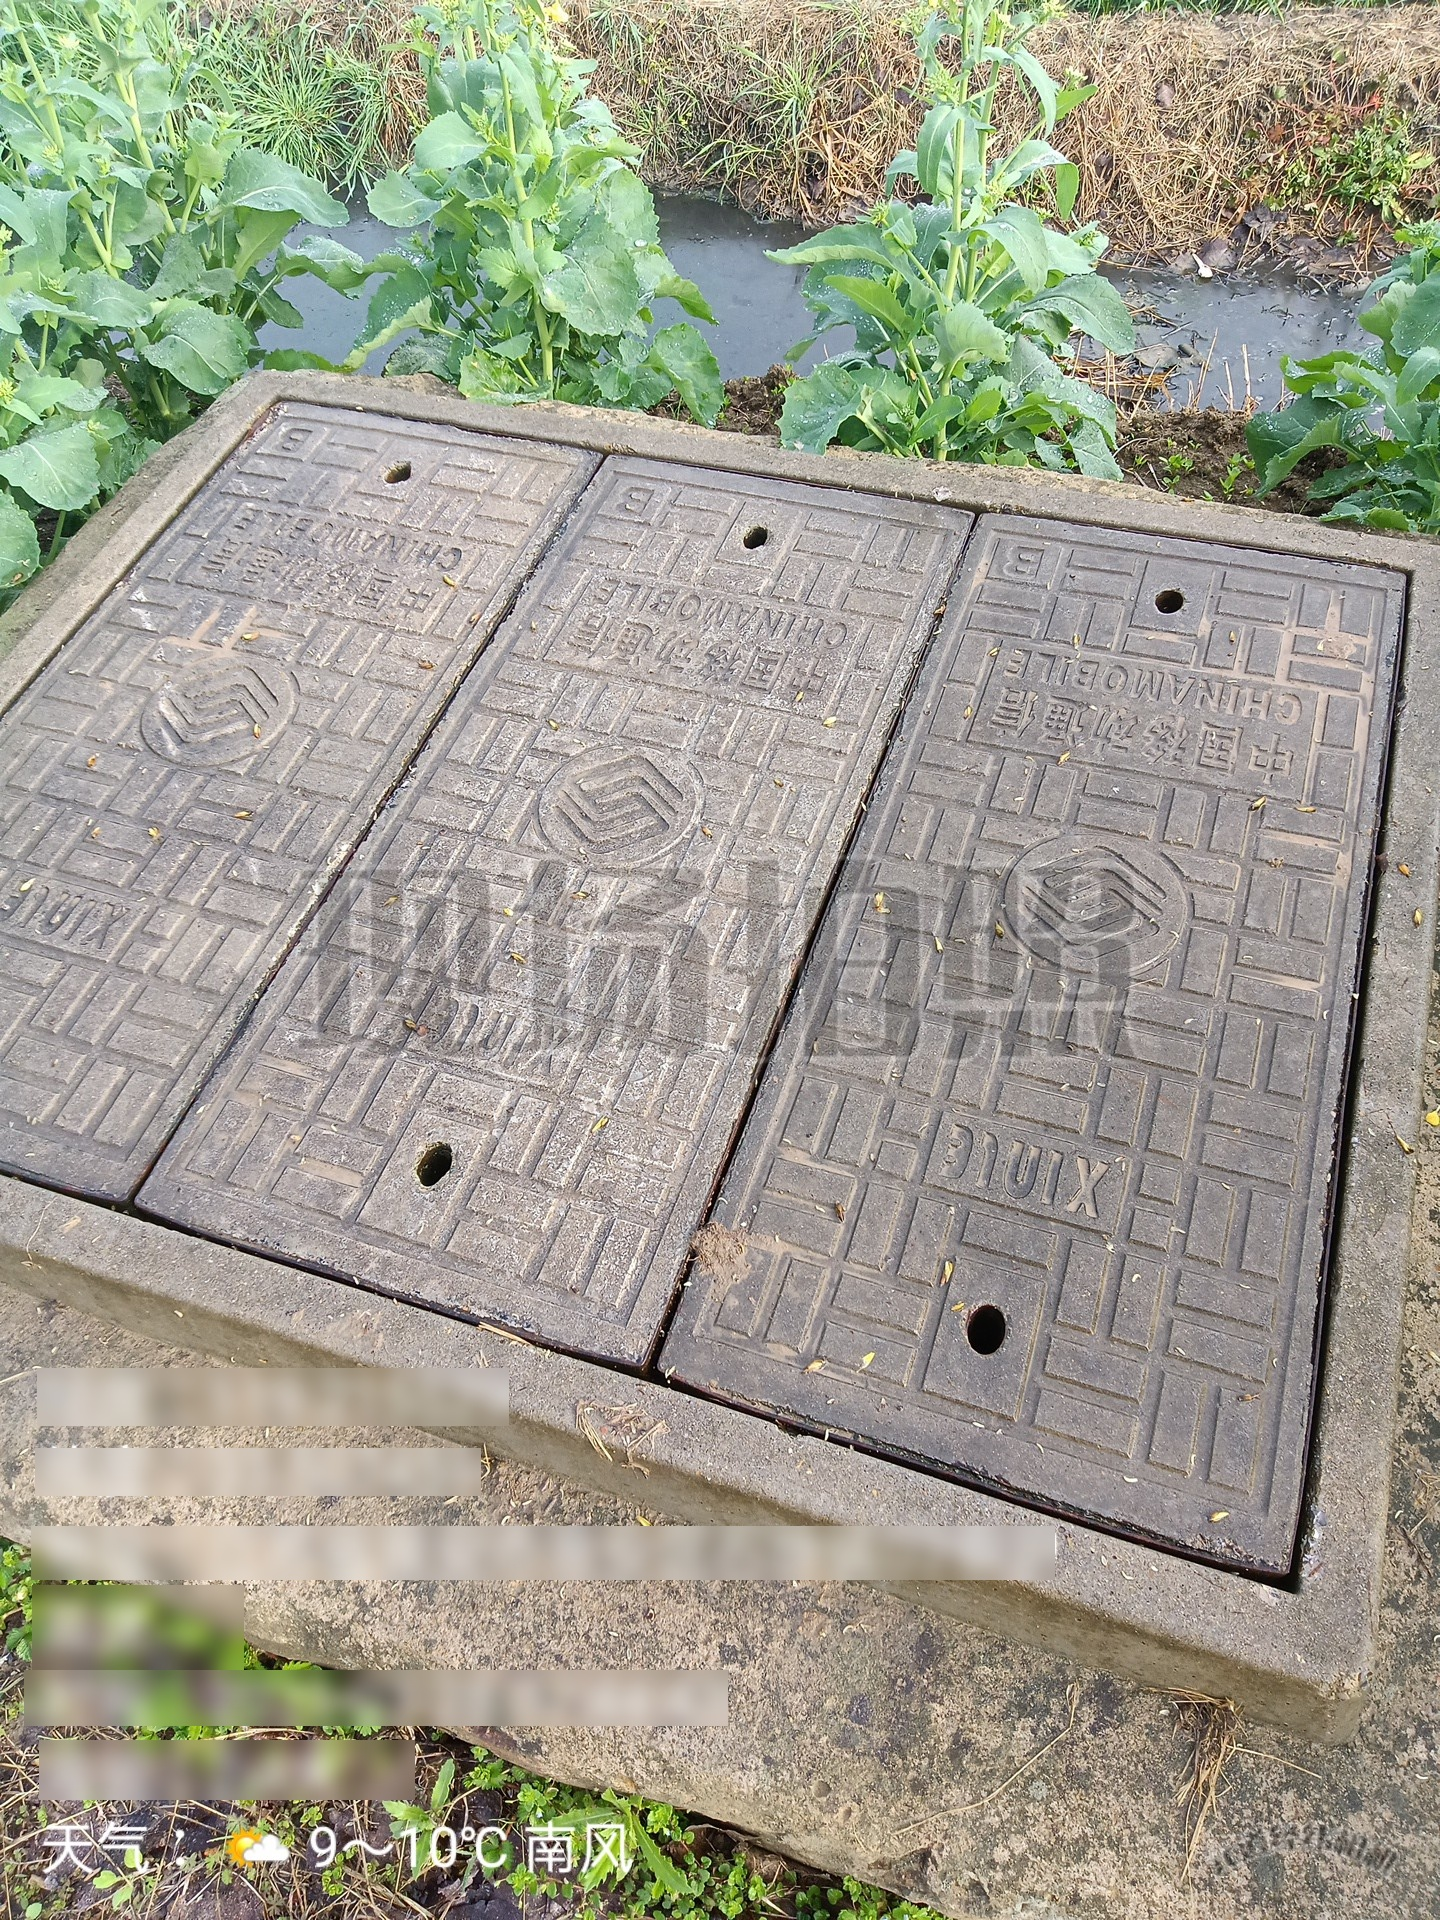good: (2, 361, 1437, 1704)
